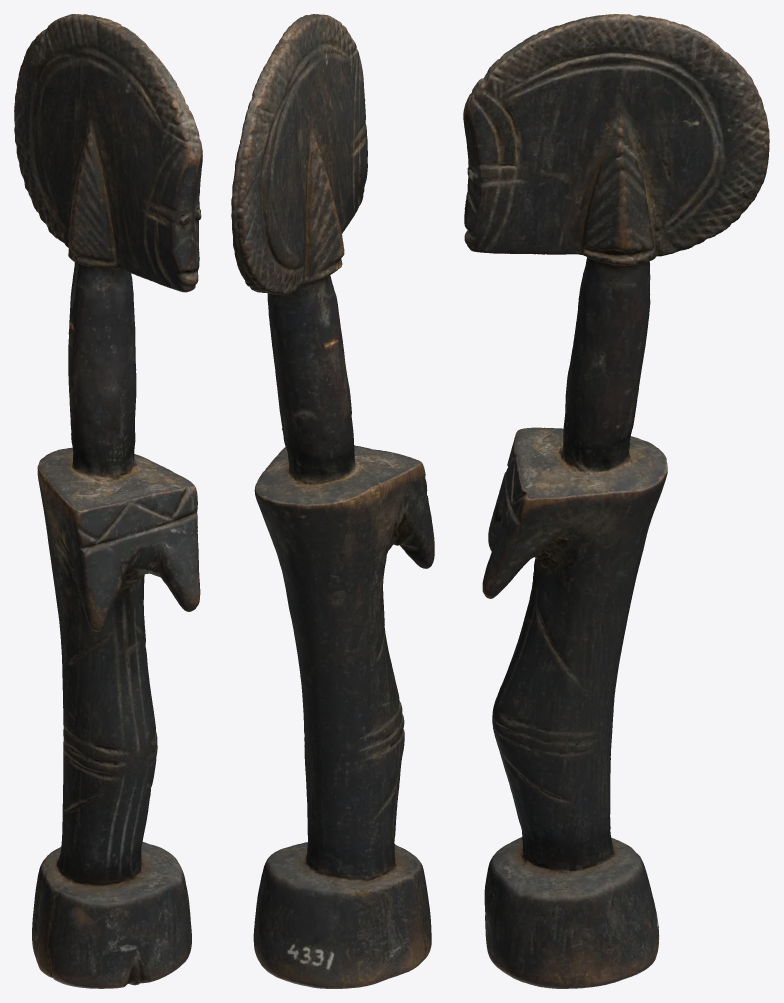
File: preview.glb
The picture shows the model from 3 angles, left to right: view 1: azimuth 30°, elevation 25°; view 2: azimuth 150°, elevation 25°; view 3: azimuth 270°, elevation 25°; orthographic projection. The views are drawn at different scales.
Visible parts, largest first — view 1: Object_2; view 2: Object_2; view 3: Object_2.
Part boxes in pixels (left/top/right/bottom): Object_2: left=14, top=14, right=202, bottom=988; Object_2: left=231, top=14, right=434, bottom=988; Object_2: left=463, top=14, right=769, bottom=988.
Bounding box in the file's own units: 0.0547 × 0.3296 × 0.0958.
1 material, 1 textured.
